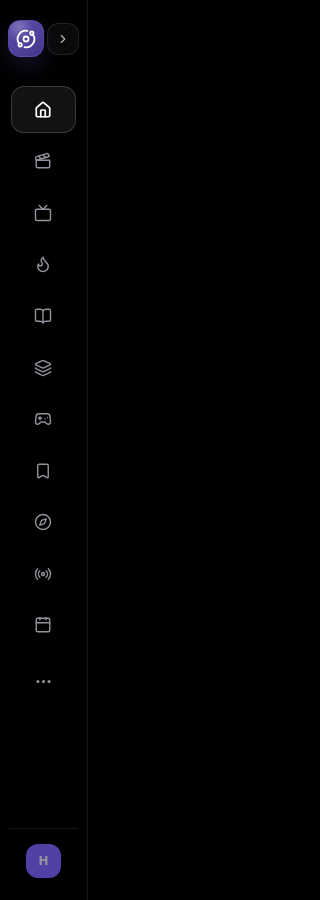
Test: navegação adaptativa › começa compacta e só revela os rótulos quando a pessoa pedir
The image size is (320, 900).
Expected: the navigation bar named "navegação principal" is shown, [9, 86, 78, 828]
Expected: the text "Minha lista" is not shown
What coordinates should you click on to do the following:
click the button named "expandir menu"
I would click on:
 (63, 39)
Its box is [47, 23, 79, 55].
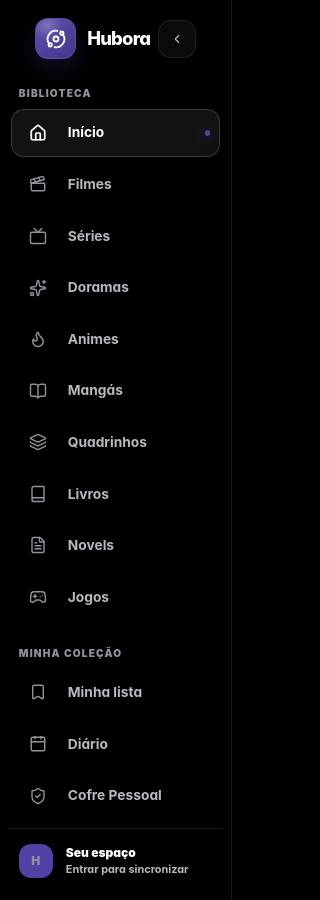
Expected: the text "Minha lista" is shown, [68, 684, 142, 700]
Expected: the text "Seu espaço" is shown, [66, 844, 136, 860]
